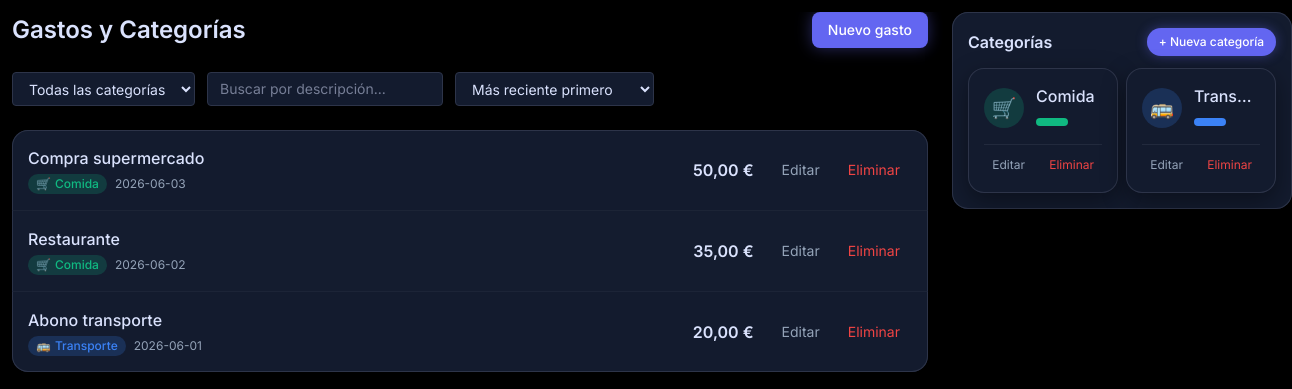
Test: ExpensesPage — filter, search and sort › shows result counter when a category filter is active
The width and height of the screenshot is (1292, 389).
Select "Transporte" in the dropdown named "categoría" at (104, 89), box [12,72,195,106]
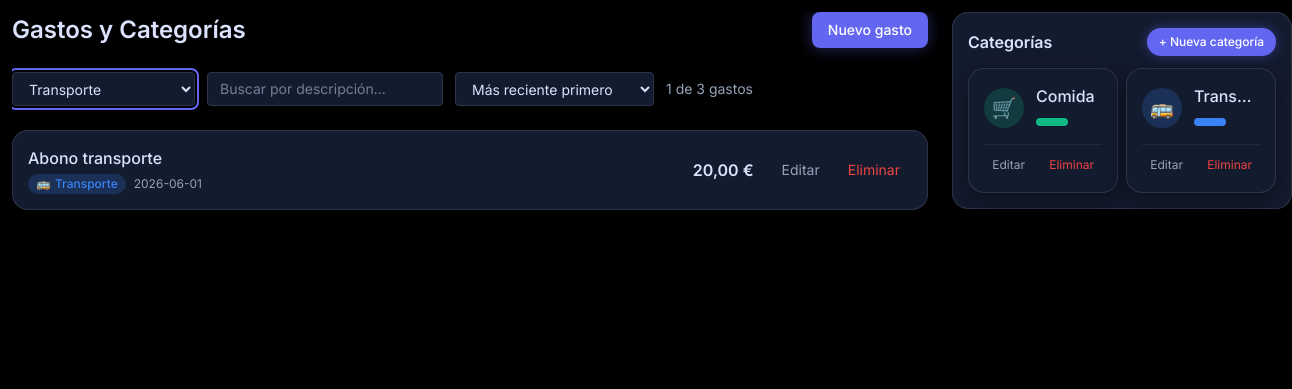
Expected: the text "1 de 3 gastos" is shown, [666,79,753,99]
